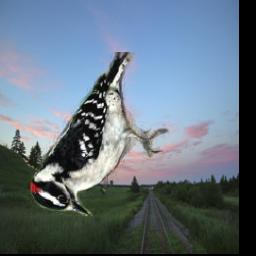Woodpecker: (28, 53, 171, 217)
